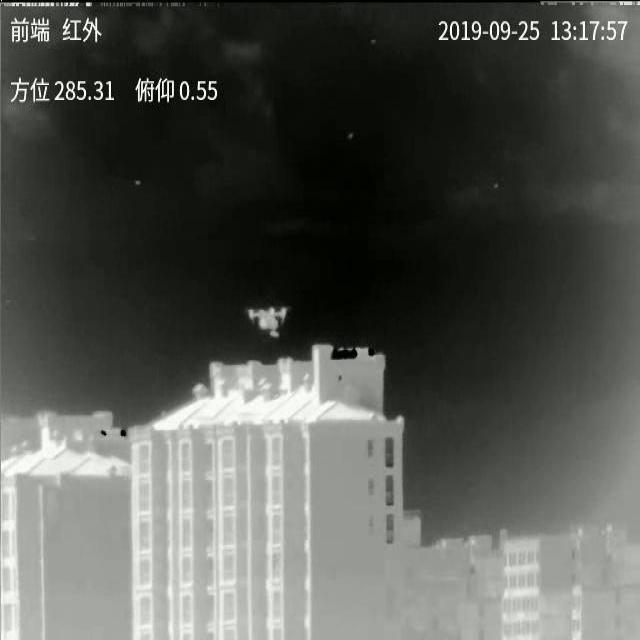drone: (247, 306, 288, 337)
